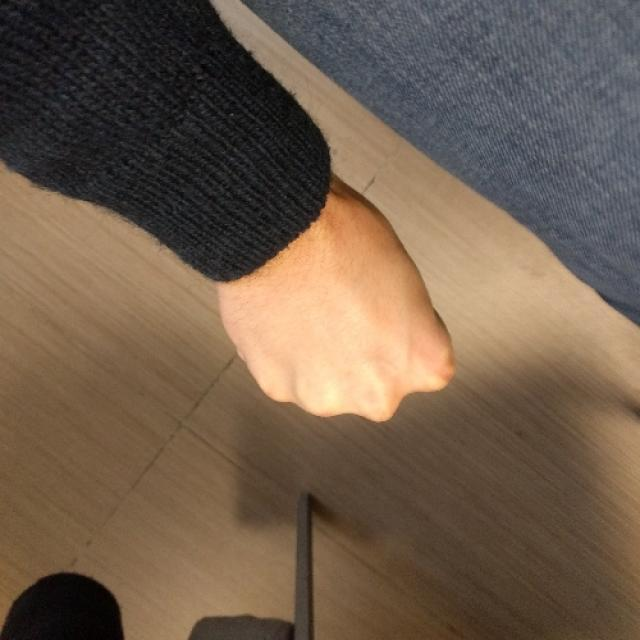fist: (222, 188, 462, 422)
